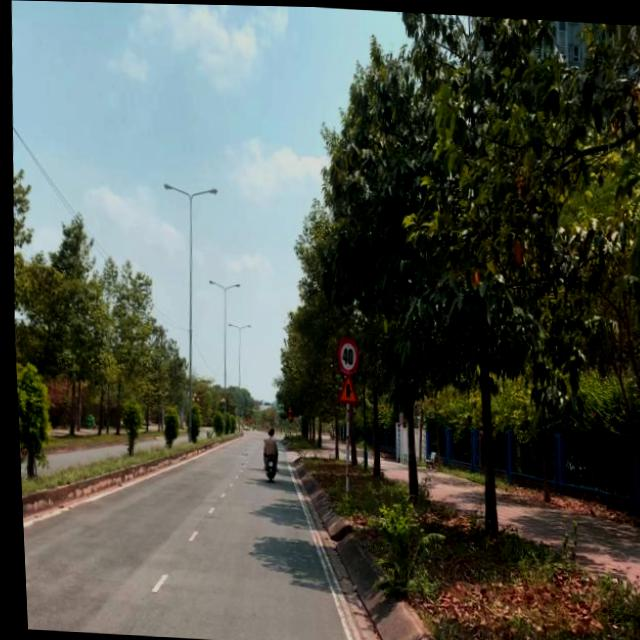Giao nhau voi duong khong uu tien ben phai: (333, 372, 355, 403)
Toc do toi da cho phep: (332, 333, 357, 374)
